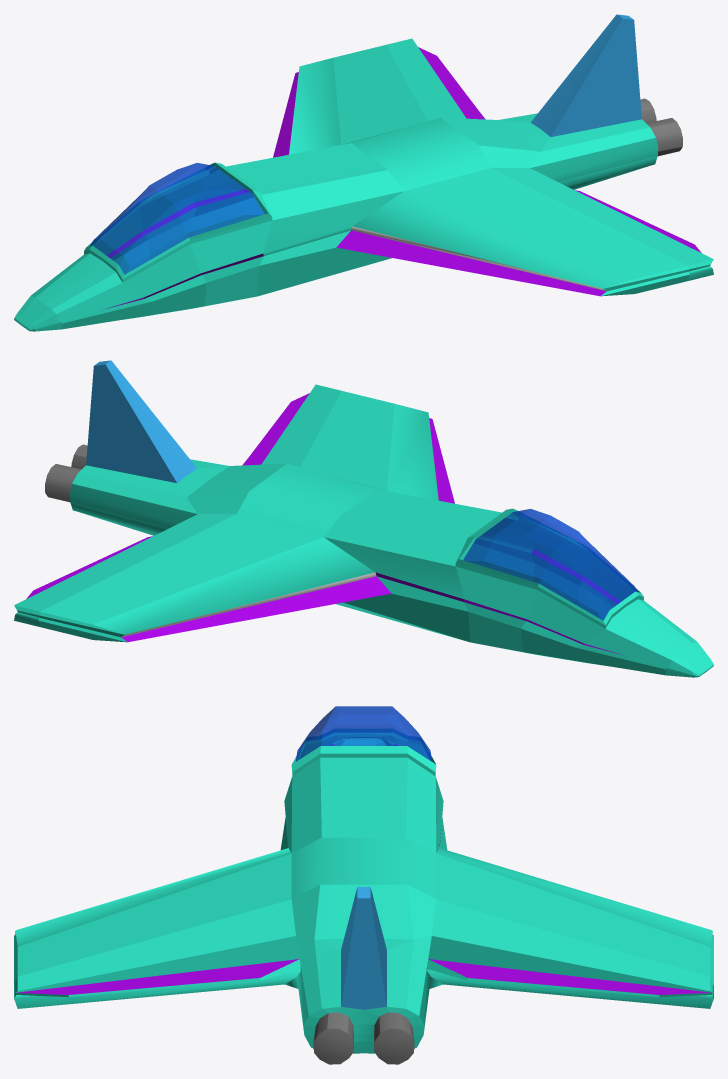
Rendered from avion3.fbx.
3 views of the same model, one above another, from view 1: azimuth 30°, elevation 25°; view 2: azimuth 150°, elevation 25°; view 3: azimuth 270°, elevation 25° (orthographic). The views are drawn at different scales.
Parts seen in each view (by area): view 1: Cube, Cube.001, Cube.004, Cube.002, Cube.003, Cube.005, Cube.006; view 2: Cube, Cube.001, Cube.004, Cube.002, Cube.005, Cube.003, Cube.006; view 3: Cube, Cube.002, Cube.004, Cube.001, Cube.003.
Boxes of the visible parts, x1,y1,x2,y2 form: Cube: [14, 38, 713, 331]; Cube.001: [89, 163, 264, 274]; Cube.004: [531, 14, 641, 136]; Cube.002: [273, 47, 701, 296]; Cube.003: [640, 98, 682, 156]; Cube.005: [104, 189, 263, 309]; Cube.006: [289, 80, 605, 290]; Cube: [14, 384, 713, 677]; Cube.001: [463, 509, 638, 620]; Cube.004: [86, 360, 196, 482]; Cube.002: [26, 393, 454, 642]; Cube.005: [375, 549, 623, 655]; Cube.003: [45, 444, 87, 502]; Cube.006: [122, 426, 438, 636]; Cube: [14, 729, 713, 1053]; Cube.002: [14, 935, 713, 994]; Cube.004: [341, 886, 386, 1009]; Cube.001: [295, 706, 432, 761]; Cube.003: [313, 1012, 414, 1064].
Bounding box in the file's own units: 141 × 36.76 × 115.
